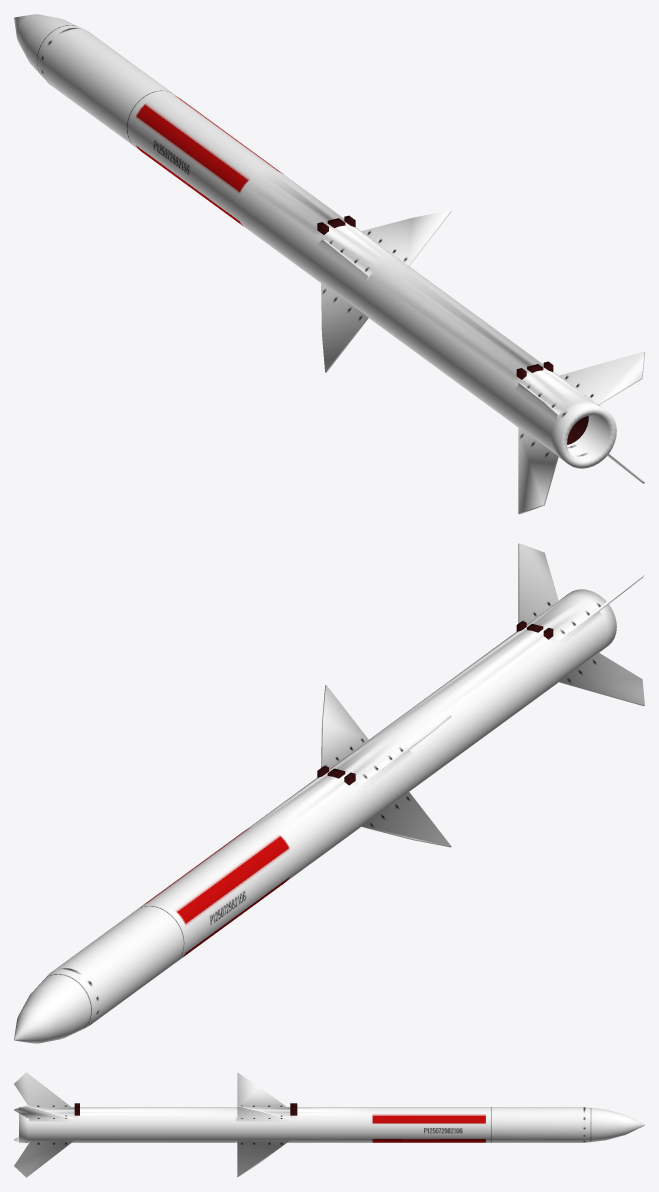
3 renders of one model, top to bottom at view 1: azimuth 30°, elevation 25°; view 2: azimuth 150°, elevation 25°; view 3: azimuth 270°, elevation 25°, orthographic. The views are drawn at different scales.
Visible parts, largest first — view 1: PL12; view 2: PL12; view 3: PL12.
Boxes of the visible parts, x1,y1,x2,y2 form: PL12: (14, 14, 644, 514); PL12: (14, 543, 644, 1043); PL12: (14, 1072, 644, 1177).
Size of the model in its own units: 0.4906 by 0.4924 by 3.88.
Materials: 2 (1 with a texture image).
